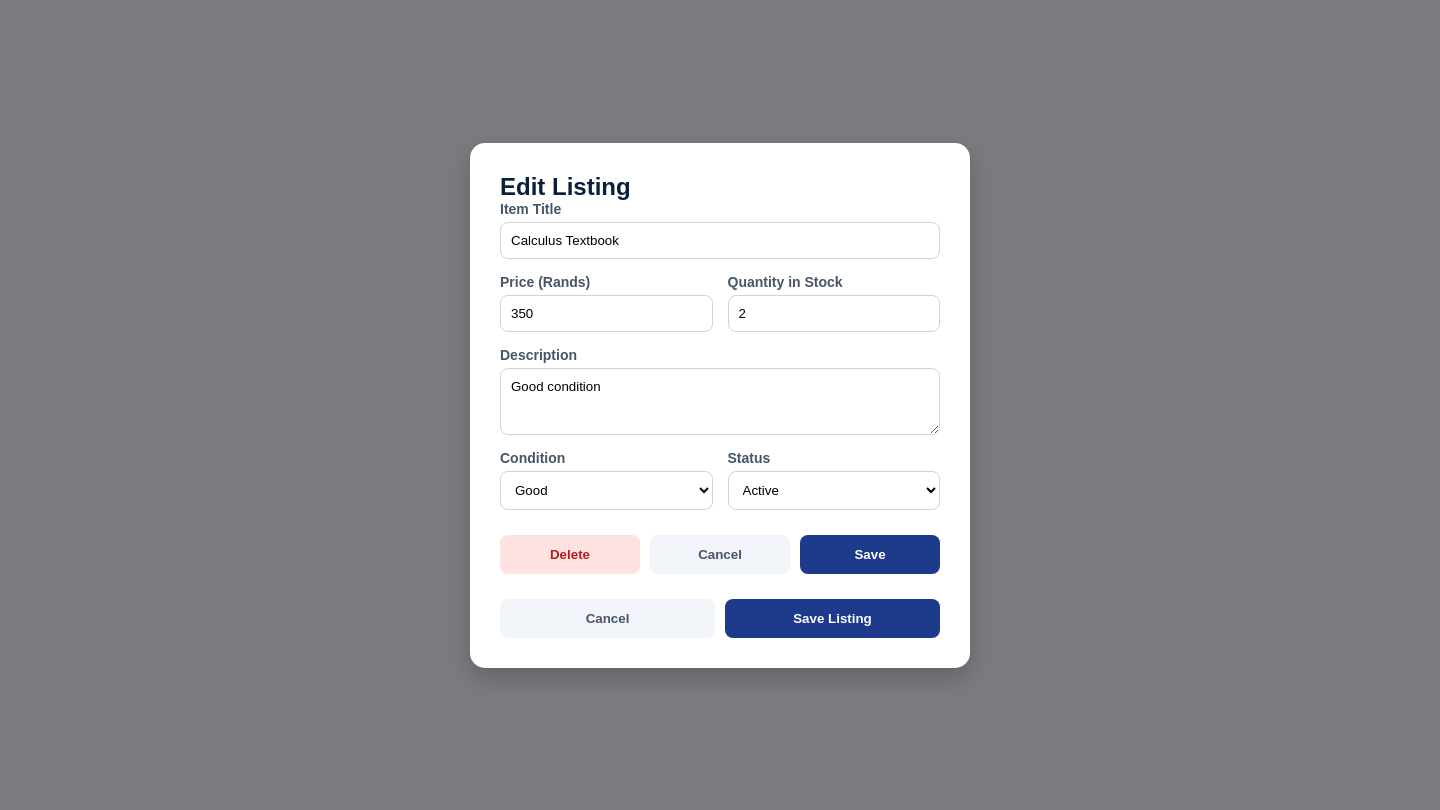
Scenario: EditListingModal Component Suite › Boundary Check: automatically changes status to sold when quantity is set to 0
// Change quantity to 0
Step 1. Replace the text in the number field showing "2" below "Quantity in Stock" with "0" → {"x": 834, "y": 313}, box [728,294,940,332]
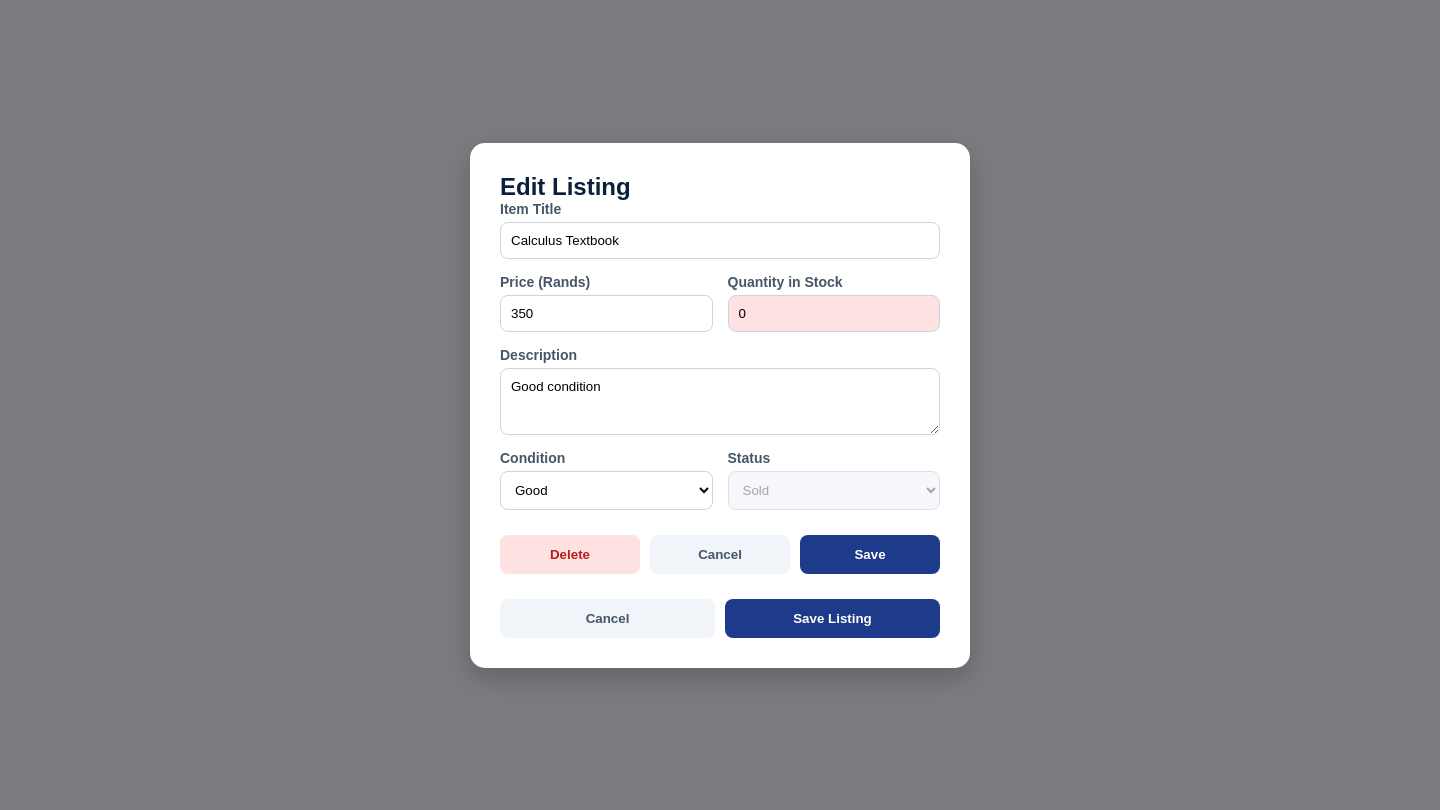
Expected: the dropdown below "Status" shows "Sold", [728,470,940,510]
Expected: the dropdown below "Status" is disabled, [728,470,940,510]
